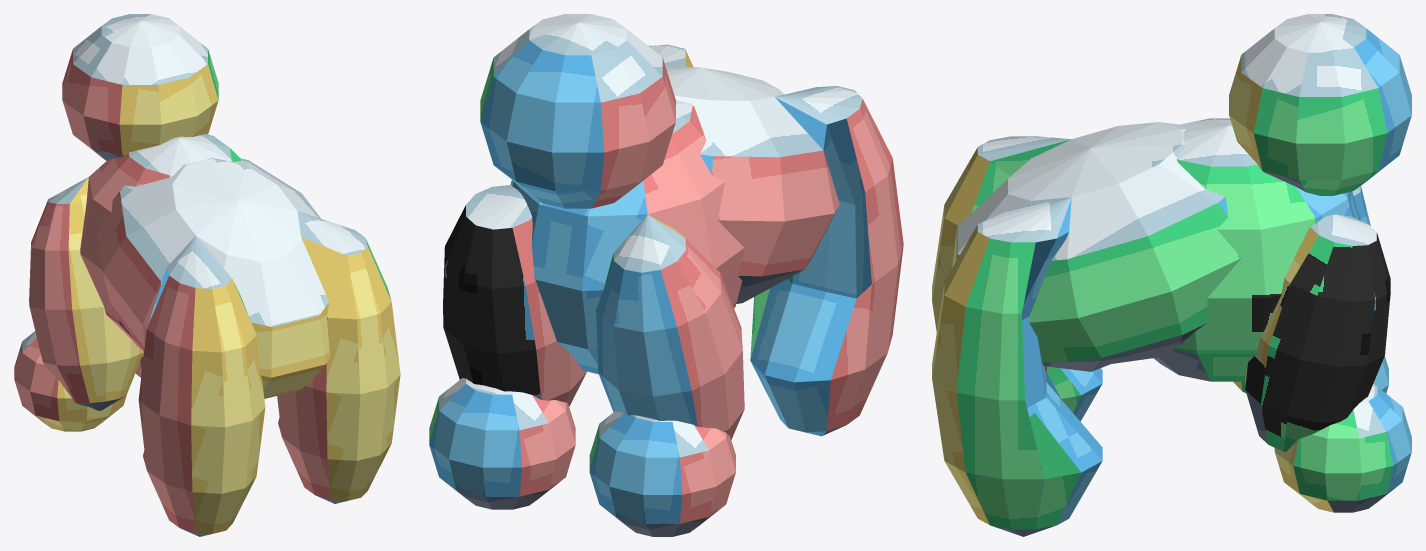
File: glowrilla.gltf
3 renders of one model, left to right at view 1: azimuth 30°, elevation 25°; view 2: azimuth 150°, elevation 25°; view 3: azimuth 270°, elevation 25°, orthographic. The views are drawn at different scales.
Visible parts, largest first — view 1: sphere (×7); view 2: sphere (×9); view 3: sphere (×7).
Boxes of the visible parts, bbox=[...] form: sphere (×7): bbox=[14, 14, 400, 536]; sphere (×9): bbox=[429, 14, 903, 536]; sphere (×7): bbox=[932, 14, 1411, 536].
Bounding box in the file's own units: 0.875 × 1.44 × 1.31.
9 materials, 9 textured.
